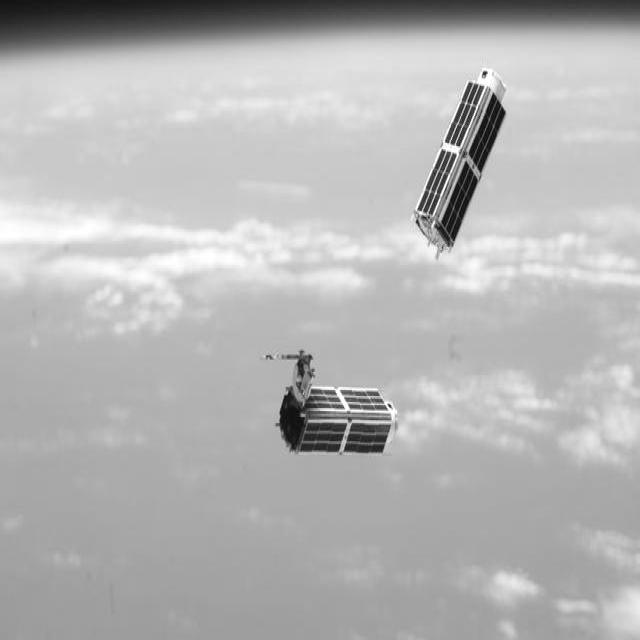satellite: (414, 70, 505, 255), (261, 350, 398, 455)
